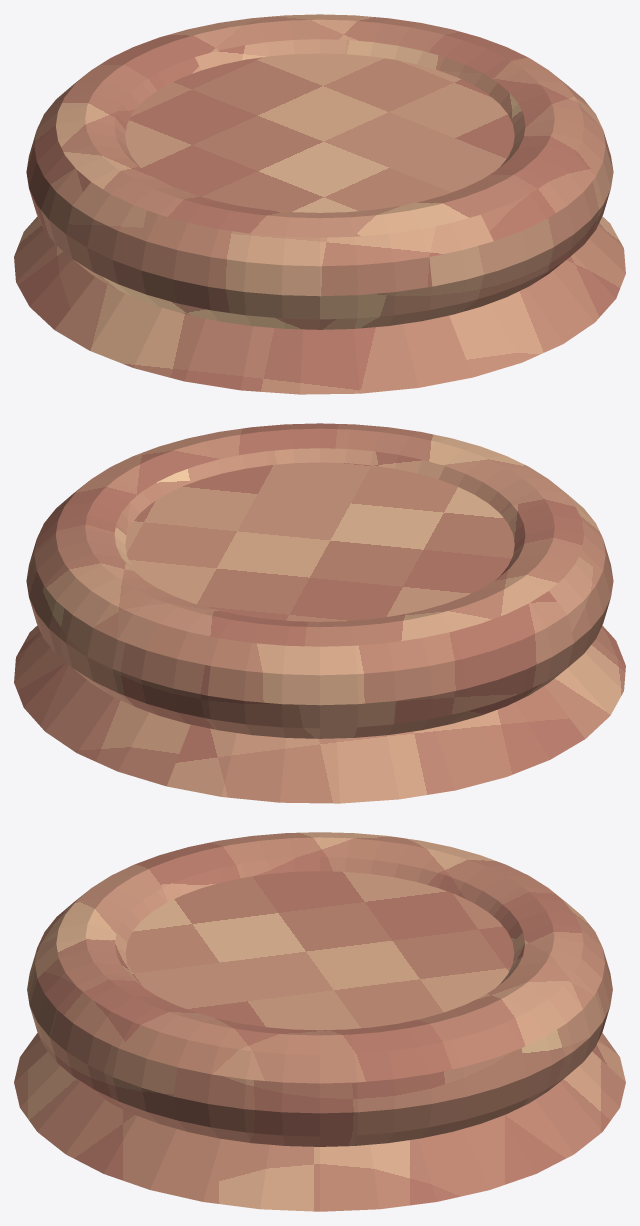
Rendered from pedestal.obj.
3 renders of one model, top to bottom at view 1: azimuth 30°, elevation 25°; view 2: azimuth 150°, elevation 25°; view 3: azimuth 270°, elevation 25°, orthographic.
Parts seen in each view (by area): view 1: Cylinder; view 2: Cylinder; view 3: Cylinder.
Boxes of the visible parts, x1,y1,x2,y2 form: Cylinder: (14, 14, 625, 394); Cylinder: (14, 423, 625, 803); Cylinder: (14, 832, 625, 1211).
Bounding box in the file's own units: 1.38 × 0.364 × 1.38.
